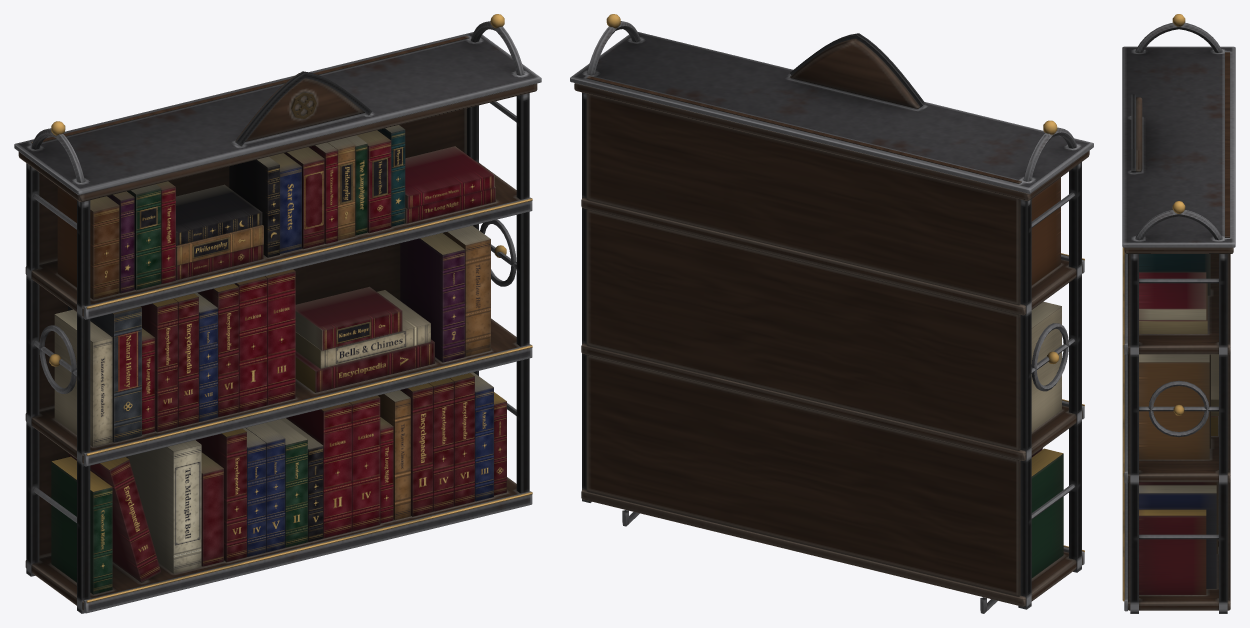
The model's file is DormShelfFull.fbx.
3 renders of one model, left to right at view 1: azimuth 30°, elevation 25°; view 2: azimuth 150°, elevation 25°; view 3: azimuth 270°, elevation 25°, orthographic. The views are drawn at different scales.
Parts seen in each view (by area): view 1: DormShelfFull; view 2: DormShelfFull; view 3: DormShelfFull.
Boxes of the visible parts, bbox=[...] form: DormShelfFull: bbox=[14, 14, 541, 613]; DormShelfFull: bbox=[570, 14, 1093, 613]; DormShelfFull: bbox=[1122, 14, 1235, 613].
Bounding box in the file's own units: 496 × 511 × 120.
